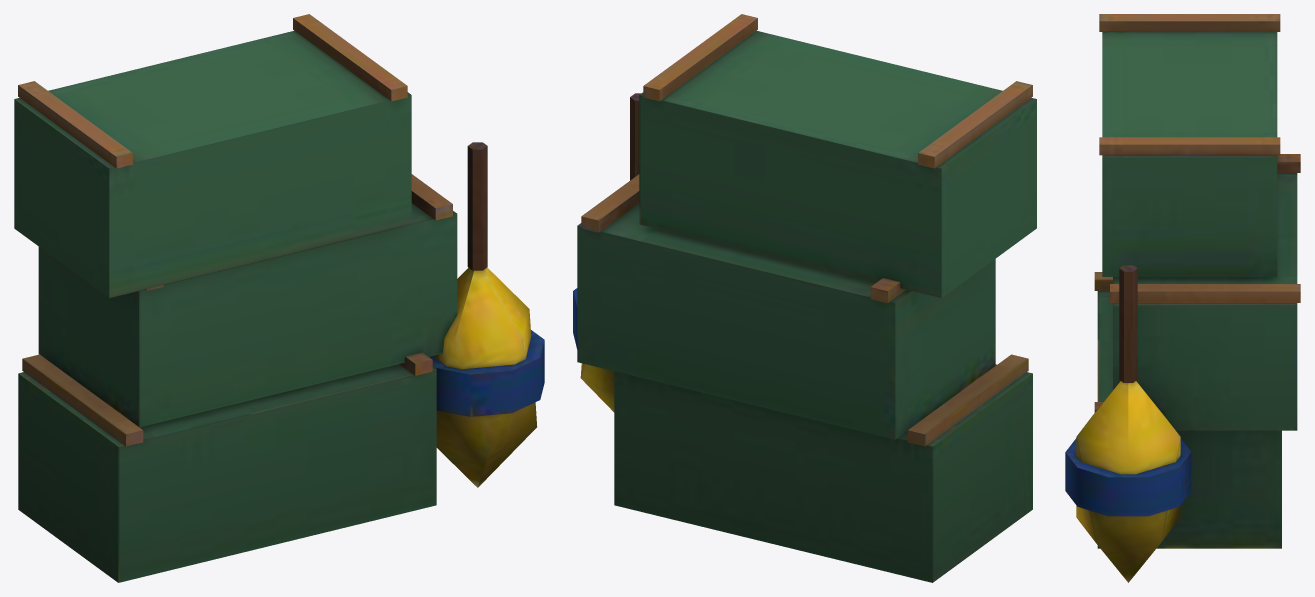
The model's file is nasas_apiladas.glb.
3 views of the same model, side by side, from view 1: azimuth 30°, elevation 25°; view 2: azimuth 150°, elevation 25°; view 3: azimuth 270°, elevation 25° (orthographic). The views are drawn at different scales.
Parts seen in each view (by area): view 1: nasas_apiladas; view 2: nasas_apiladas; view 3: nasas_apiladas.
Boxes of the visible parts, bbox=[...] form: nasas_apiladas: bbox=[14, 14, 544, 582]; nasas_apiladas: bbox=[573, 14, 1036, 582]; nasas_apiladas: bbox=[1065, 14, 1300, 582].
Bounding box in the file's own units: 1.52 × 1.44 × 0.765.
Materials: 1 (1 with a texture image).
